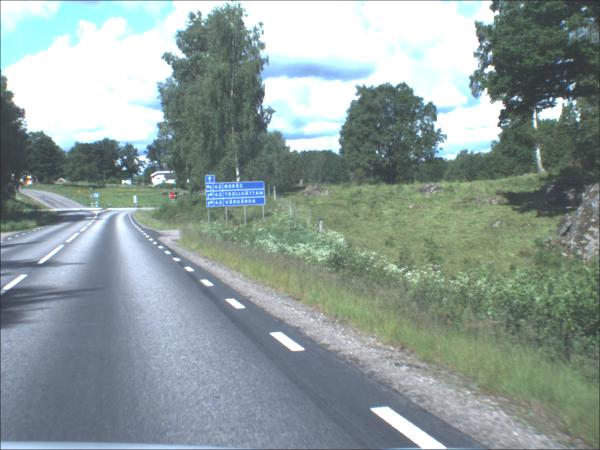PASS_RIGHT_SIDE: (95, 194, 100, 199)
STOP: (171, 193, 179, 201)
